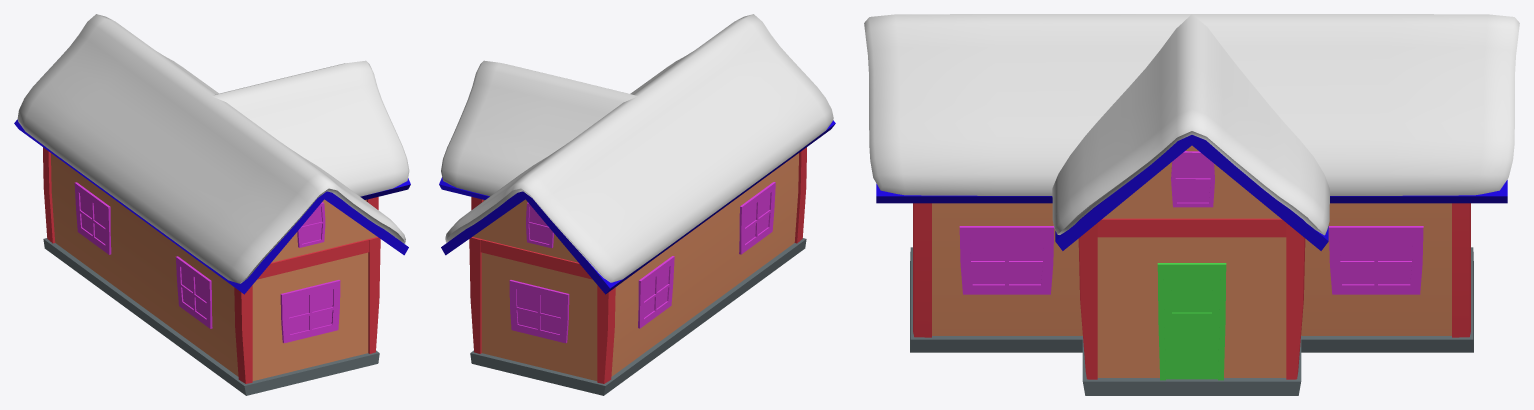
File: Snow_Cabin_Mesh.fbx
The picture shows the model from 3 angles, left to right: view 1: azimuth 30°, elevation 25°; view 2: azimuth 150°, elevation 25°; view 3: azimuth 270°, elevation 25°; orthographic projection. The views are drawn at different scales.
Parts seen in each view (by area): view 1: Snow_Cabin; view 2: Snow_Cabin; view 3: Snow_Cabin.
Part boxes in pixels (box(x1,y1,x2,y2)): Snow_Cabin: box(14, 14, 410, 395); Snow_Cabin: box(439, 14, 835, 395); Snow_Cabin: box(864, 14, 1519, 395).
Bounding box in the file's own units: 863 × 520 × 426.
